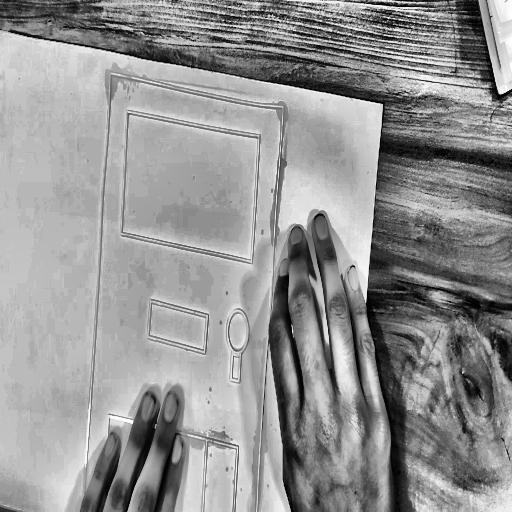door: (78, 65, 291, 512)
top_right: (379, 98, 388, 113)
